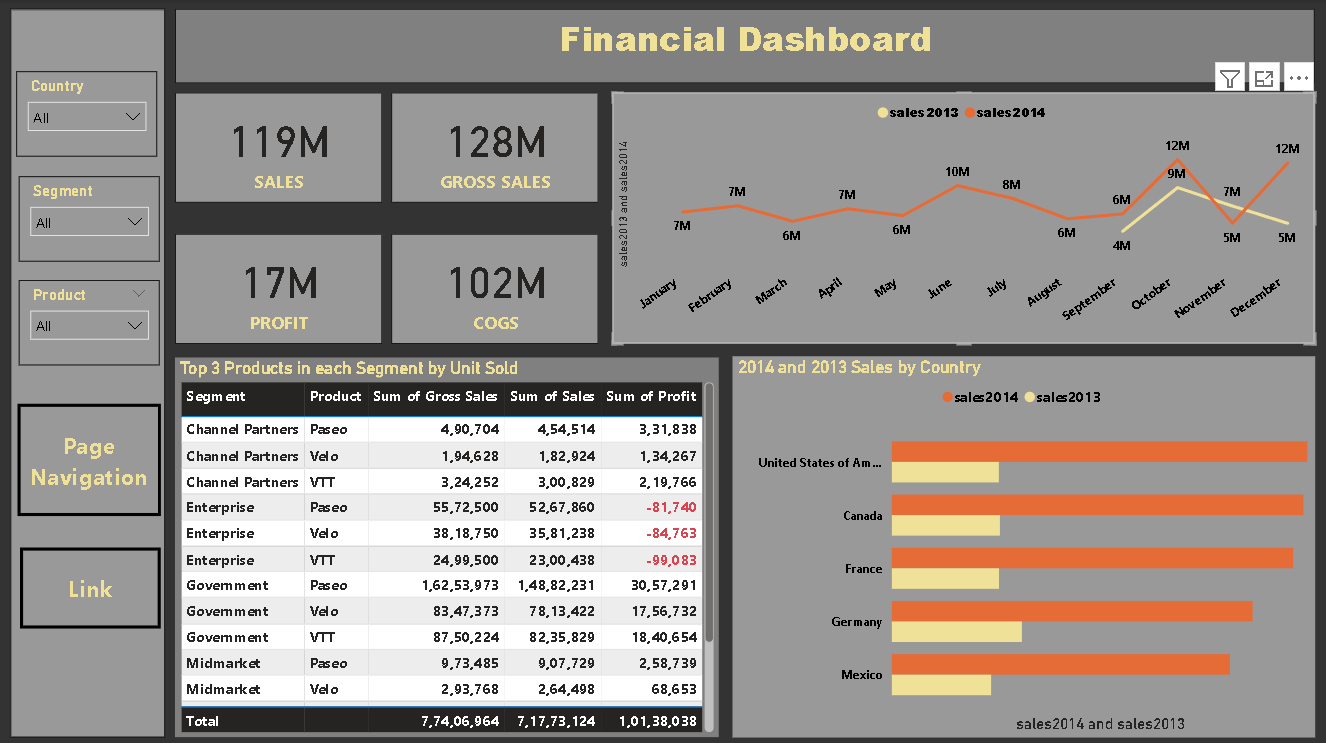

What the dashboard file says about the page in this screenshot:
{"tool":"powerbi","page":{"name":"Dashboard","canvas":[1280,720],"ordinal":11},"visuals":[{"type":"shape","box":[9.6,8.4,149.5,703.1],"z":0},{"type":"textbox","box":[168.8,8.4,1099.9,72.4],"z":1000},{"type":"card","fields":{"Values":["Sum(financials. Sales)"]},"box":[168.8,89.2,200.2,106.1],"z":2000},{"type":"card","fields":{"Values":["Sum(financials.Gross Sales)"]},"box":[377.5,89.2,200.2,106.1],"z":3000},{"type":"card","fields":{"Values":["Sum(financials.Profit)"]},"box":[168.8,225.5,200.2,106.1],"z":4000},{"type":"card","fields":{"Values":["Sum(financials.COGS)"]},"box":[377.5,225.5,200.2,106.1],"z":5000},{"type":"lineChart","title":"sales2013 and sales2014 by Month","fields":{"Y":["Master Data Box Office Mojo.sales2013","Master Data Box Office Mojo.sales2014"],"Category":["financials.Date.Variation.Date Hierarchy.Month"]},"box":[602.4,90.6,677.9,242.9],"z":6000},{"type":"tableEx","title":"Top 3 Products in each Segment by Unit Sold","fields":{"Values":["financials.Segment","financials.Product","Sum(financials.Gross Sales)","Sum(financials. Sales)","Sum(financials.Profit)"]},"box":[169.4,344.4,525,366.7],"z":7000},{"type":"clusteredBarChart","title":"2014 and 2013 Sales by Country","fields":{"Category":["financials.Country"],"Y":["Master Data Box Office Mojo.sales2014","Master Data Box Office Mojo.sales2013"]},"box":[706.7,343.7,562,367.8],"z":8000},{"type":"slicer","fields":{"Values":["financials.Country"]},"box":[16.3,68.6,136,82.6],"z":9000},{"type":"slicer","fields":{"Values":["financials.Product"]},"box":[18.6,269.8,136,82.6],"z":10000},{"type":"slicer","fields":{"Values":["financials.Segment"]},"box":[18.6,169.8,136,82.6],"z":11000},{"type":"actionButton","box":[16.5,389.7,138.6,108.4],"z":12000},{"type":"actionButton","box":[19.2,528.3,135.8,78.2],"z":13000}]}

Visuals, with their boxes in screenshot pixels (x1, y1, x2, y2), scaled from the page's 1280x720 canvas onto the 1326x743 screenshot:
shape: crop(10, 9, 165, 734)
textbox: crop(175, 9, 1314, 83)
card - Sum(financials. Sales): crop(175, 92, 382, 202)
card - Sum(financials.Gross Sales): crop(391, 92, 598, 202)
card - Sum(financials.Profit): crop(175, 233, 382, 342)
card - Sum(financials.COGS): crop(391, 233, 598, 342)
"sales2013 and sales2014 by Month" lineChart: crop(624, 93, 1325, 344)
"Top 3 Products in each Segment by Unit Sold" tableEx: crop(175, 355, 719, 734)
"2014 and 2013 Sales by Country" clusteredBarChart: crop(732, 355, 1314, 734)
slicer - financials.Country: crop(17, 71, 158, 156)
slicer - financials.Product: crop(19, 278, 160, 364)
slicer - financials.Segment: crop(19, 175, 160, 260)
actionButton: crop(17, 402, 161, 514)
actionButton: crop(20, 545, 161, 626)
